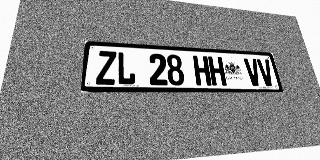2: (149, 53, 168, 85)
8: (166, 54, 185, 85)
H: (193, 56, 212, 86), (208, 56, 227, 86)
L: (117, 52, 136, 85)
V: (243, 58, 262, 86), (256, 59, 275, 86)
Z: (96, 51, 116, 85)
